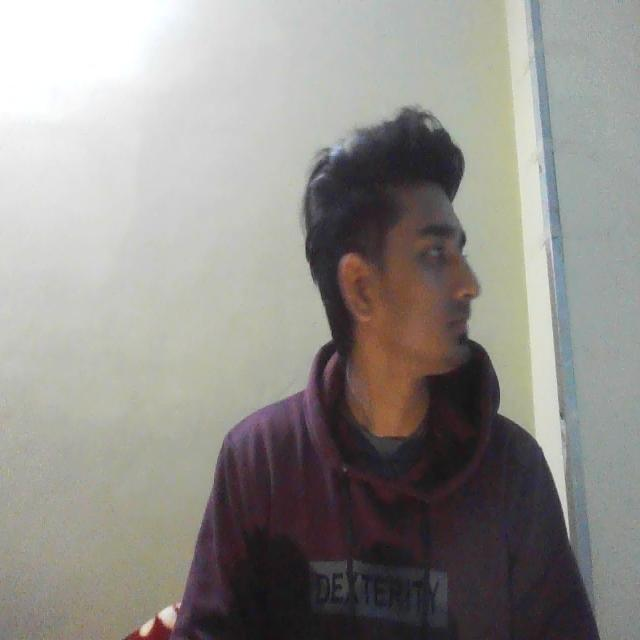real: (349, 123, 493, 394)
